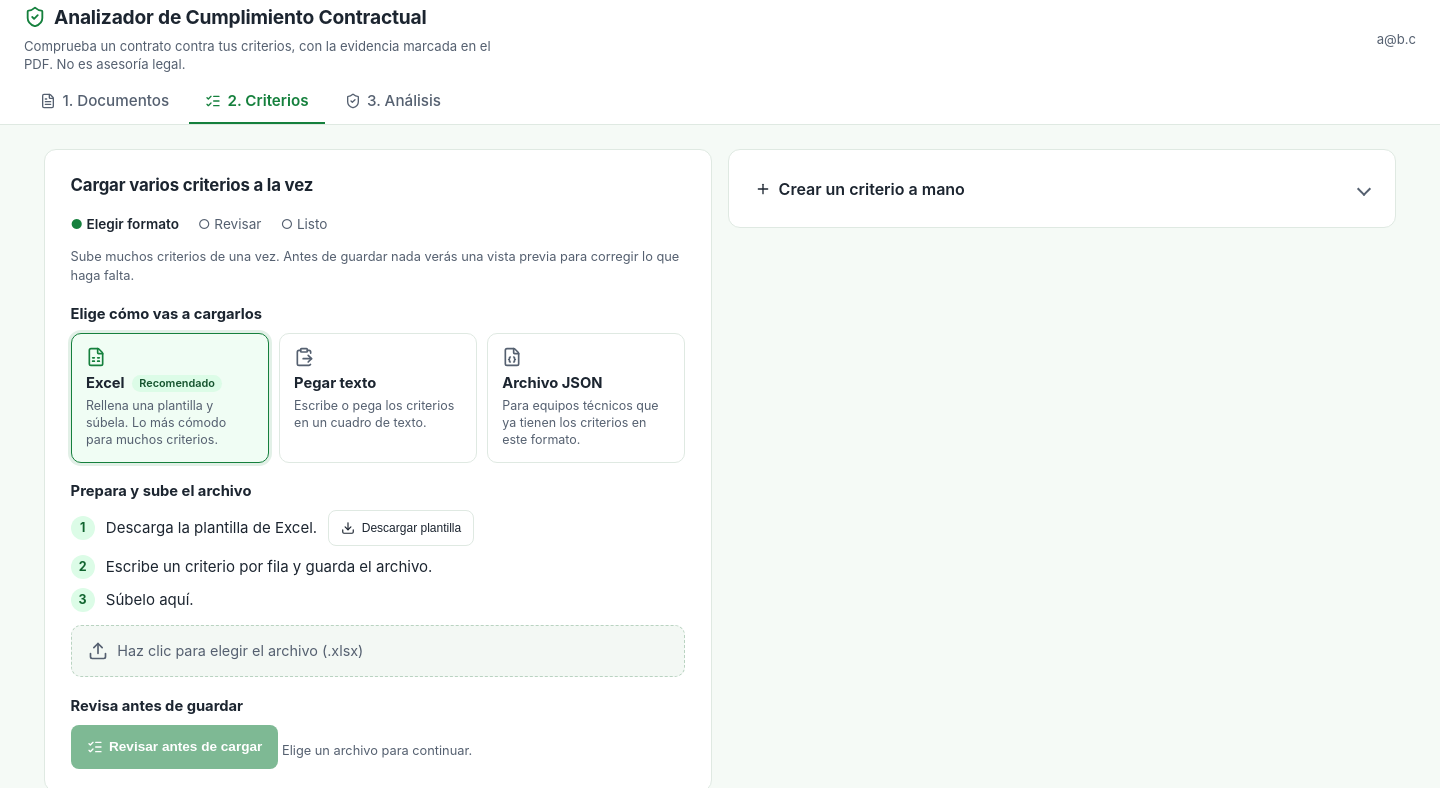
Scenario: App › cargar criterios: primero se revisa, se ven los errores por fila y solo después se importa
This screenshot has width=1440, height=788.
Click the radio button labelled "Pegar texto" at (378, 398), box [279, 333, 477, 463]
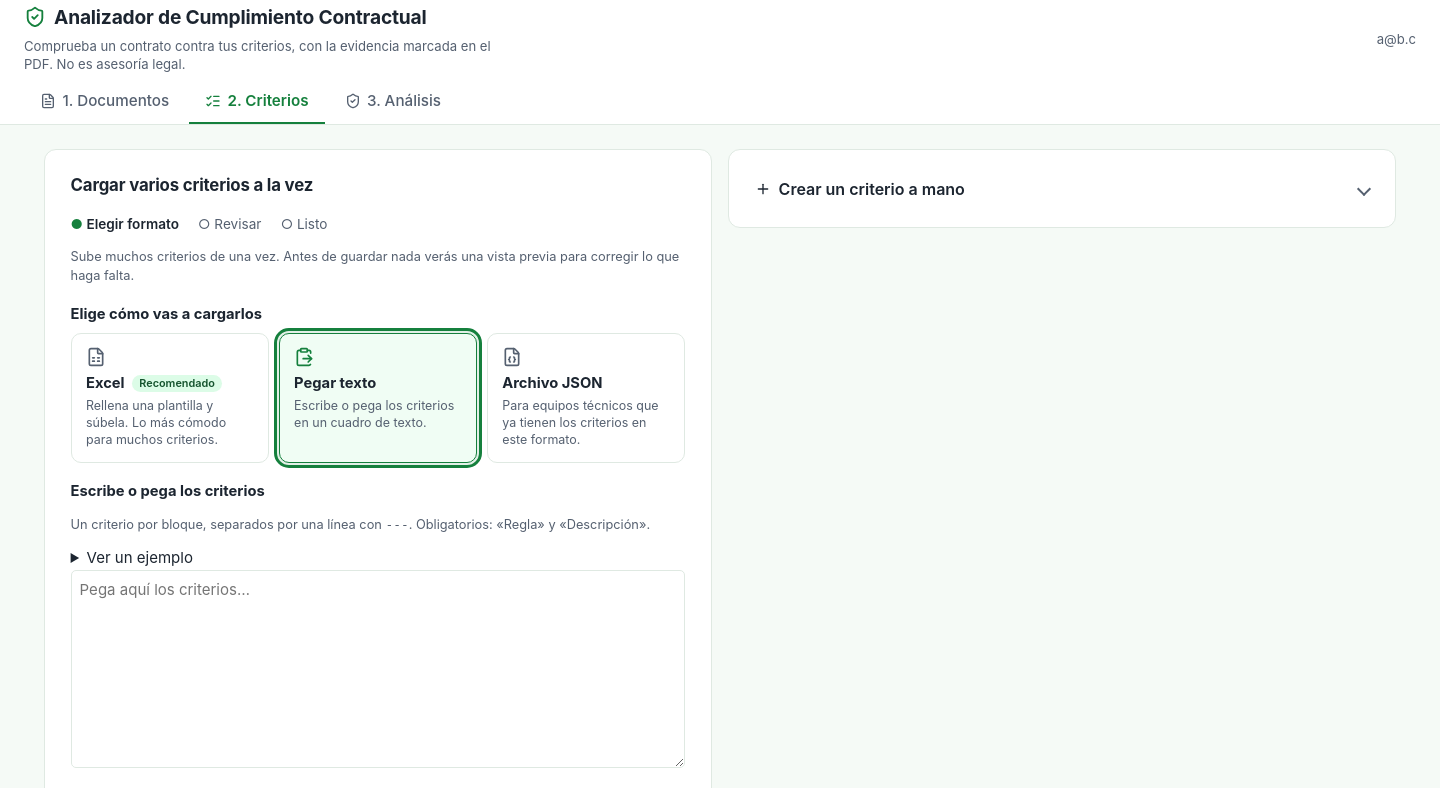
Type "Regla: x" into the text box named "Texto de criterios" at (378, 669), box [71, 570, 685, 768]
(page scrolled)
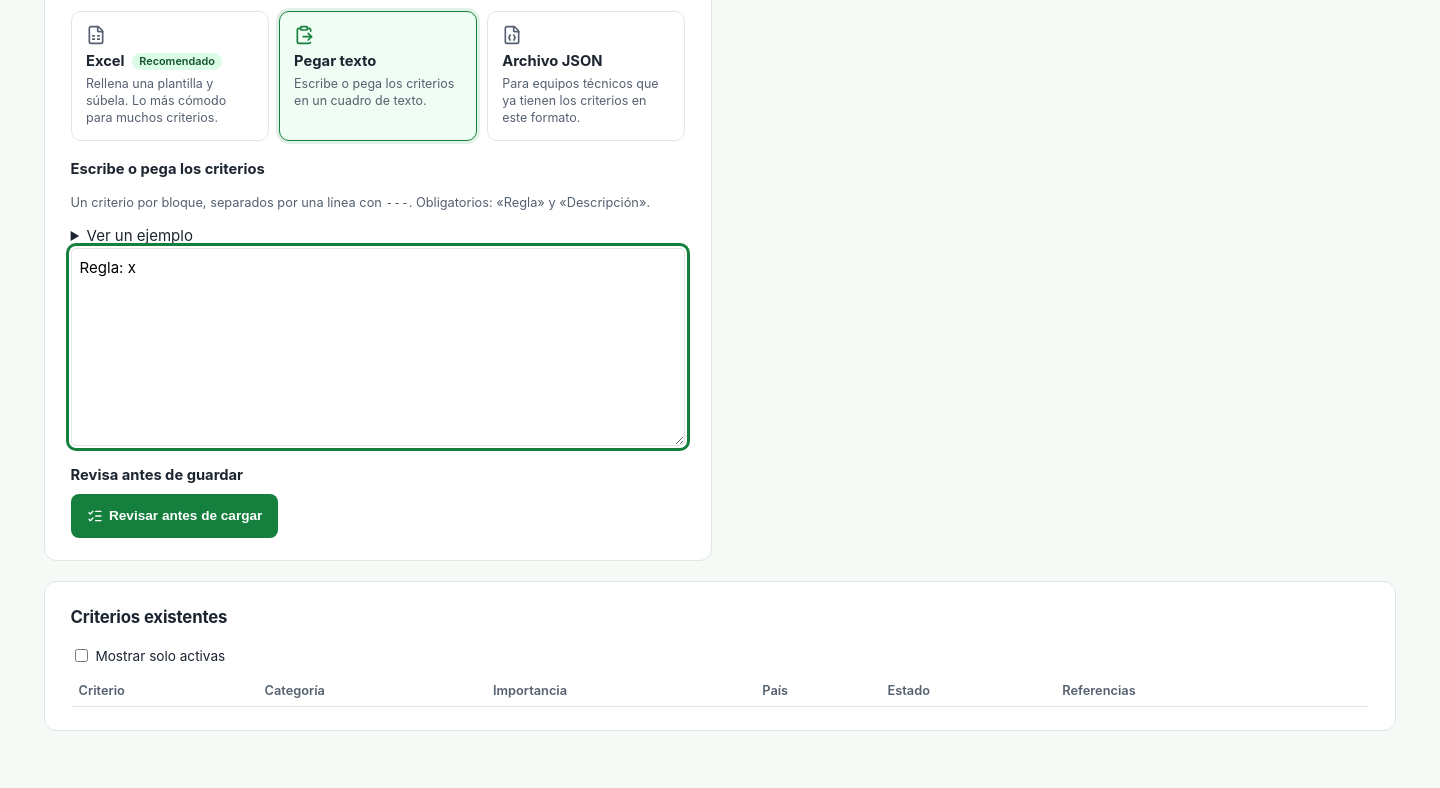
Click the button "Revisar antes de cargar" at (174, 516), box [71, 494, 278, 538]
(page scrolled)
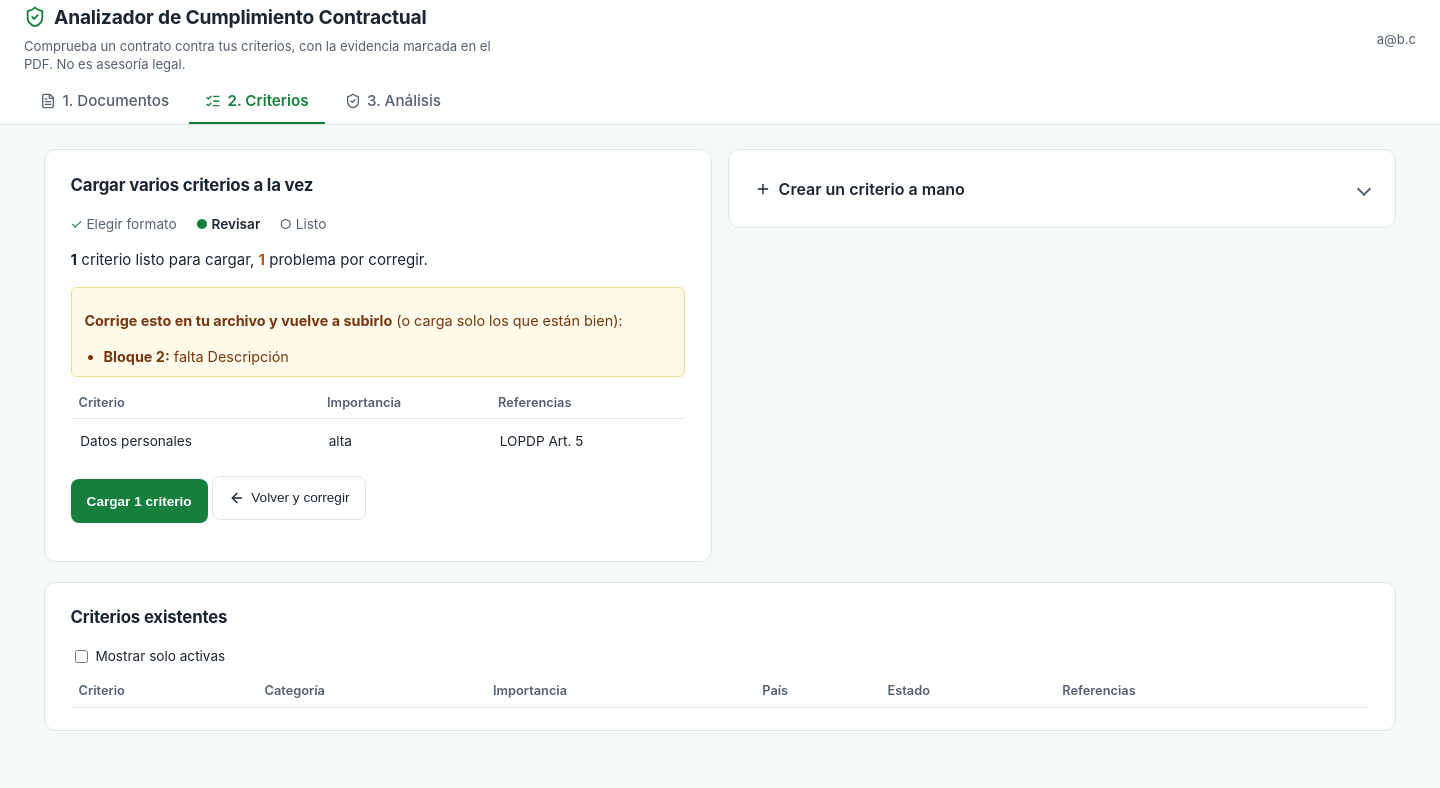
expect the text "Bloque 2:" is shown: met, box [104, 348, 170, 365]
expect the list item "falta Descripción" is shown: met, box [174, 348, 289, 365]
expect the text "Datos personales" is shown: met, box [71, 419, 319, 464]
Click the button "Cargar 1 criterio" at (139, 501), box [71, 479, 208, 523]
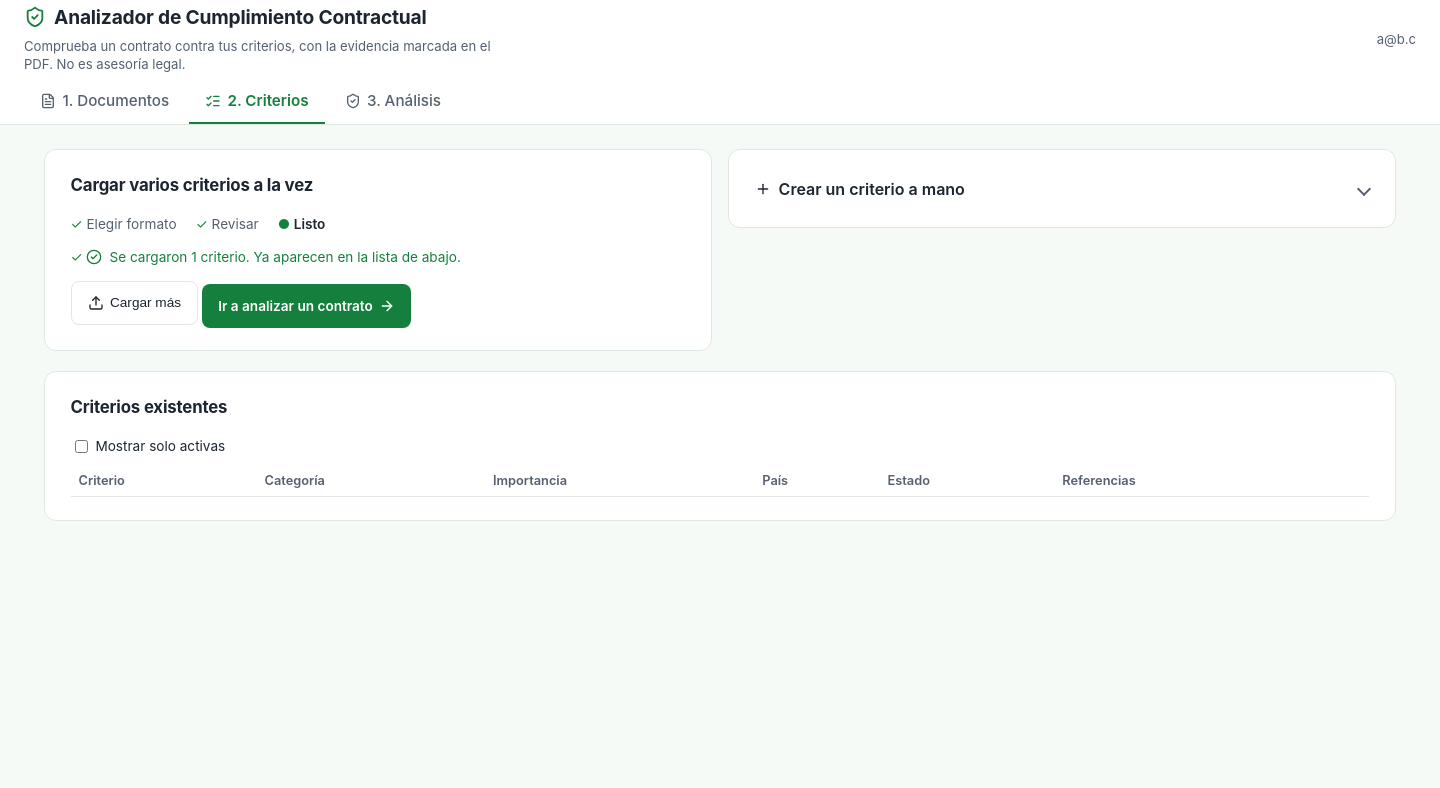
expect the text "Se cargaron 1 criterio. Ya aparecen en la lista de abajo." is shown: met, box [86, 249, 461, 265]
